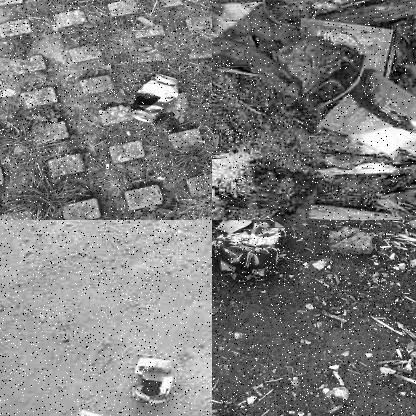cardboard: (132, 356, 176, 412)
metal: (132, 70, 182, 124), (74, 408, 125, 415)
plastic: (318, 91, 415, 159), (303, 16, 393, 78), (212, 220, 288, 275)
